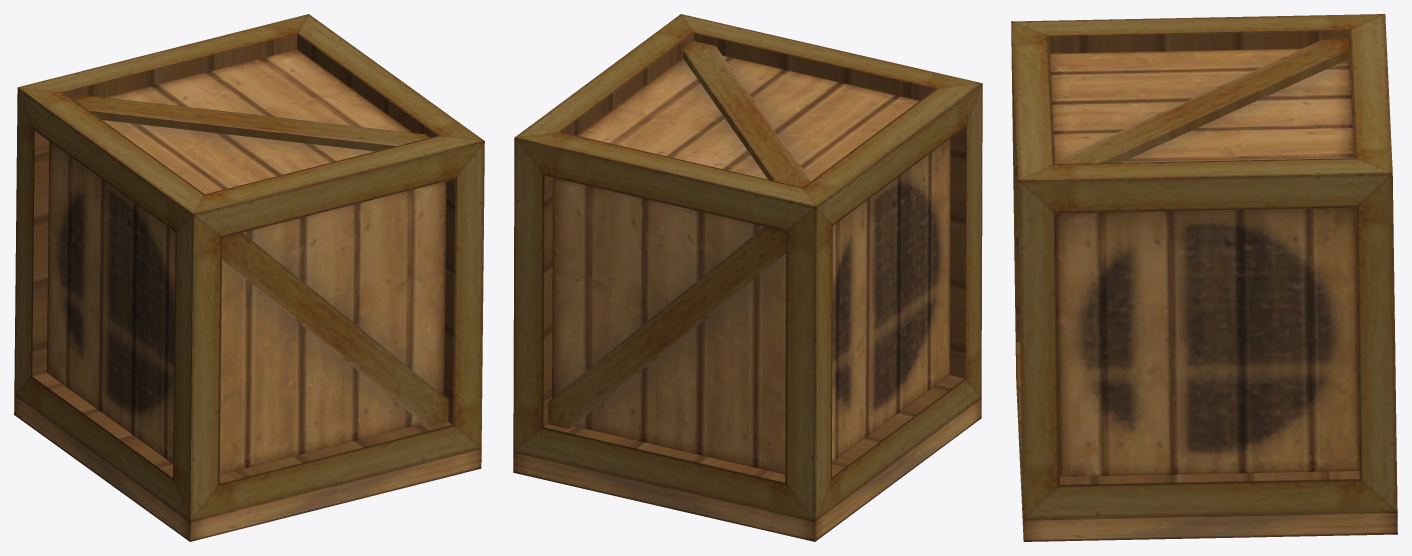
Rendered from box_wood.fbx.
3 views of the same model, side by side, from view 1: azimuth 30°, elevation 25°; view 2: azimuth 150°, elevation 25°; view 3: azimuth 270°, elevation 25° (orthographic). The views are drawn at different scales.
Parts seen in each view (by area): view 1: polygon0; view 2: polygon0; view 3: polygon0.
Part boxes in pixels (left/top/right/bottom): polygon0: left=14, top=14, right=484, bottom=541; polygon0: left=513, top=14, right=982, bottom=541; polygon0: left=1011, top=14, right=1397, bottom=541.
Bounding box in the file's own units: 5.53 × 5.85 × 5.58.
1 material, 1 textured.
